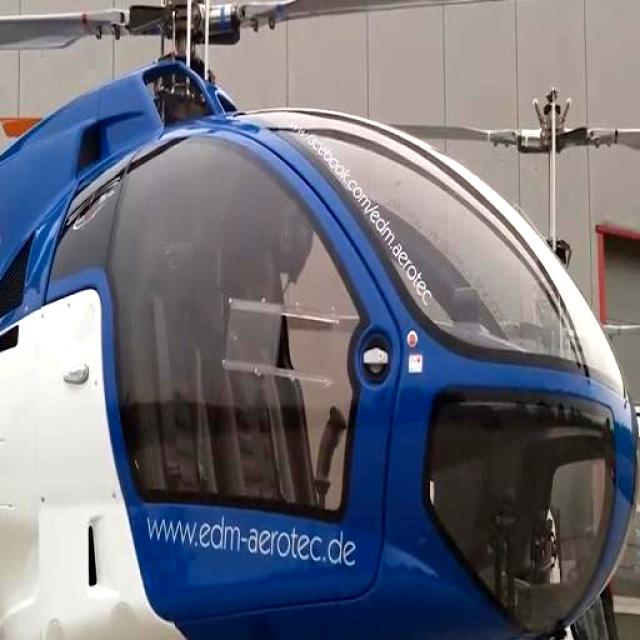drone: (0, 0, 632, 640)
